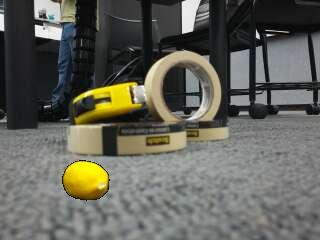lemon: (62, 162, 108, 201)
